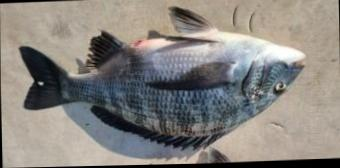fish: (19, 6, 307, 152)
